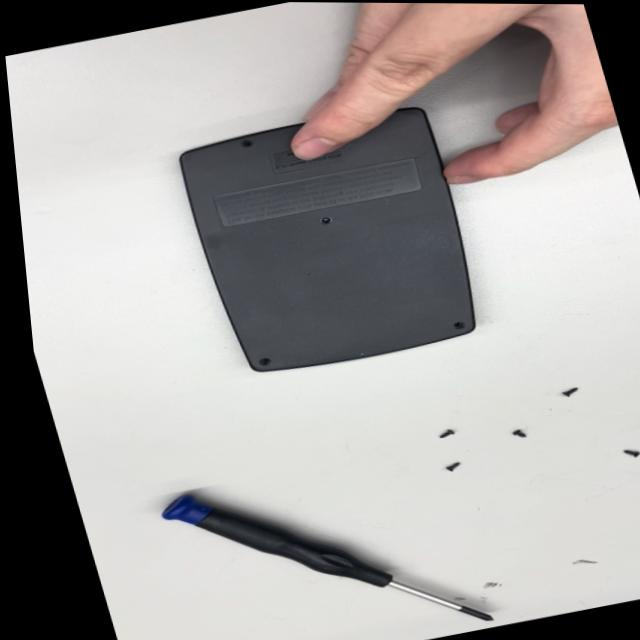back_cover: (161, 94, 503, 388)
screw: (501, 423, 538, 445), (555, 382, 587, 402), (433, 424, 463, 445), (618, 443, 640, 466), (441, 458, 467, 477)
screw_driver: (149, 440, 500, 640)
